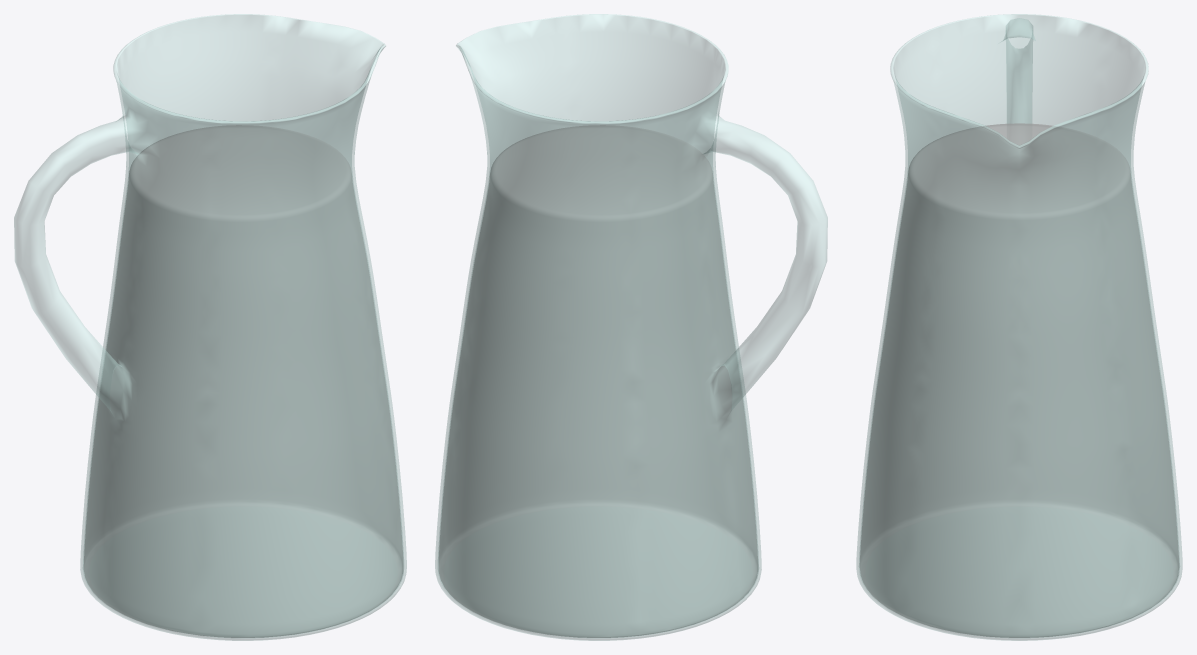
File: water-pitcher.glb
The picture shows the model from 3 angles, left to right: view 1: azimuth 30°, elevation 25°; view 2: azimuth 150°, elevation 25°; view 3: azimuth 270°, elevation 25°; orthographic projection.
Visible parts, largest first — view 1: Water jug, water; view 2: Water jug, water; view 3: Water jug, water.
Part boxes in pixels (bbox=[...]): Water jug: bbox=[14, 14, 406, 640]; water: bbox=[84, 125, 402, 637]; Water jug: bbox=[435, 14, 827, 640]; water: bbox=[439, 125, 757, 637]; Water jug: bbox=[856, 14, 1182, 640]; water: bbox=[860, 123, 1178, 637].
Bounding box in the file's own units: 0.1977 × 0.26 × 0.1519.
